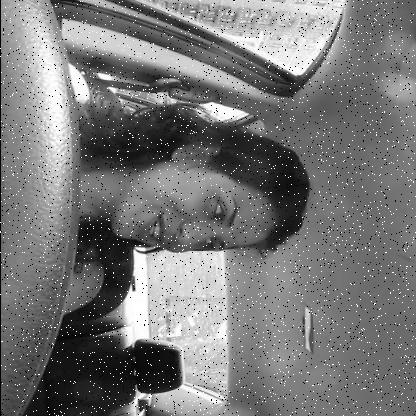no_seatbelt: (0, 70, 315, 270)
